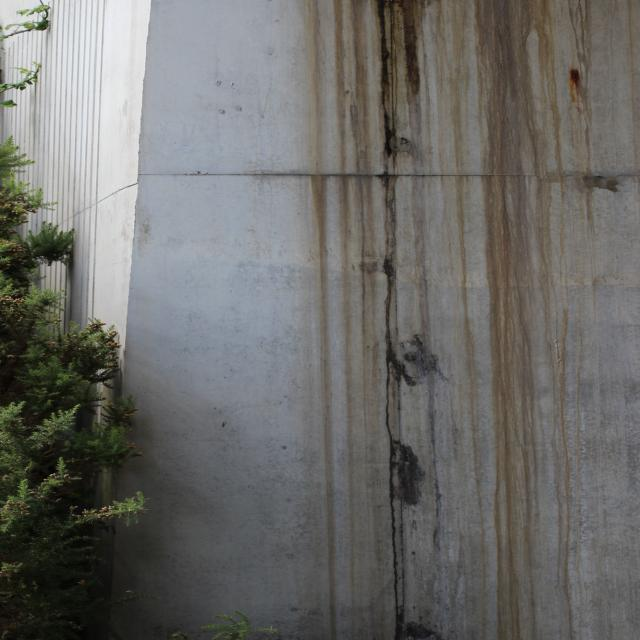corrosion: (293, 0, 640, 640)
